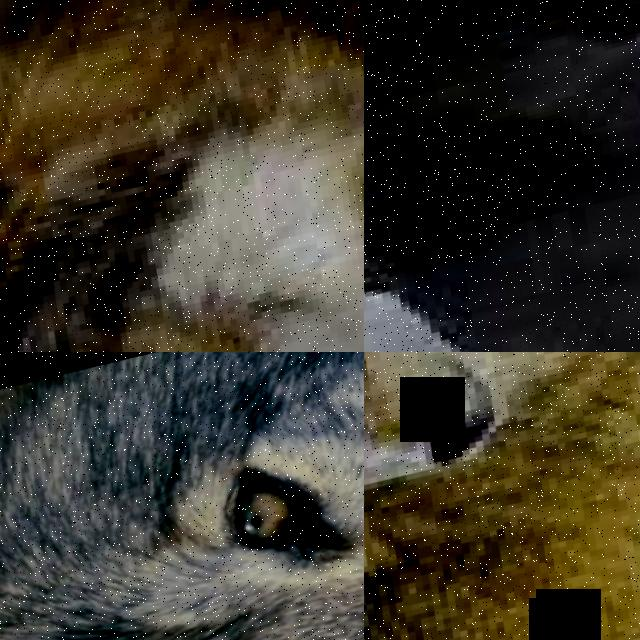dog: (0, 0, 364, 352), (364, 0, 640, 352), (364, 251, 640, 352)
wolf: (0, 352, 364, 640), (364, 352, 640, 640)
